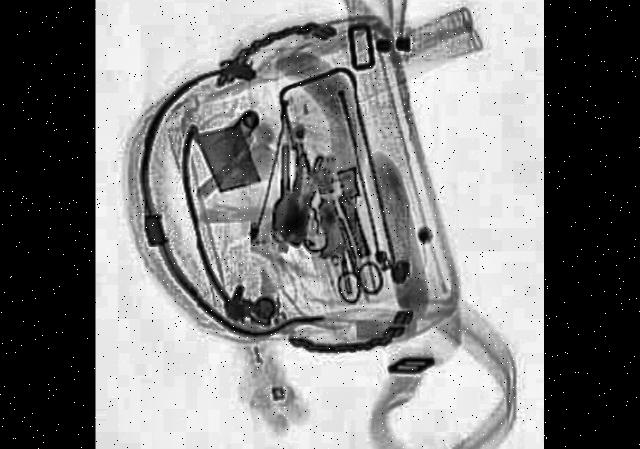Scissors: (312, 182, 382, 316)
